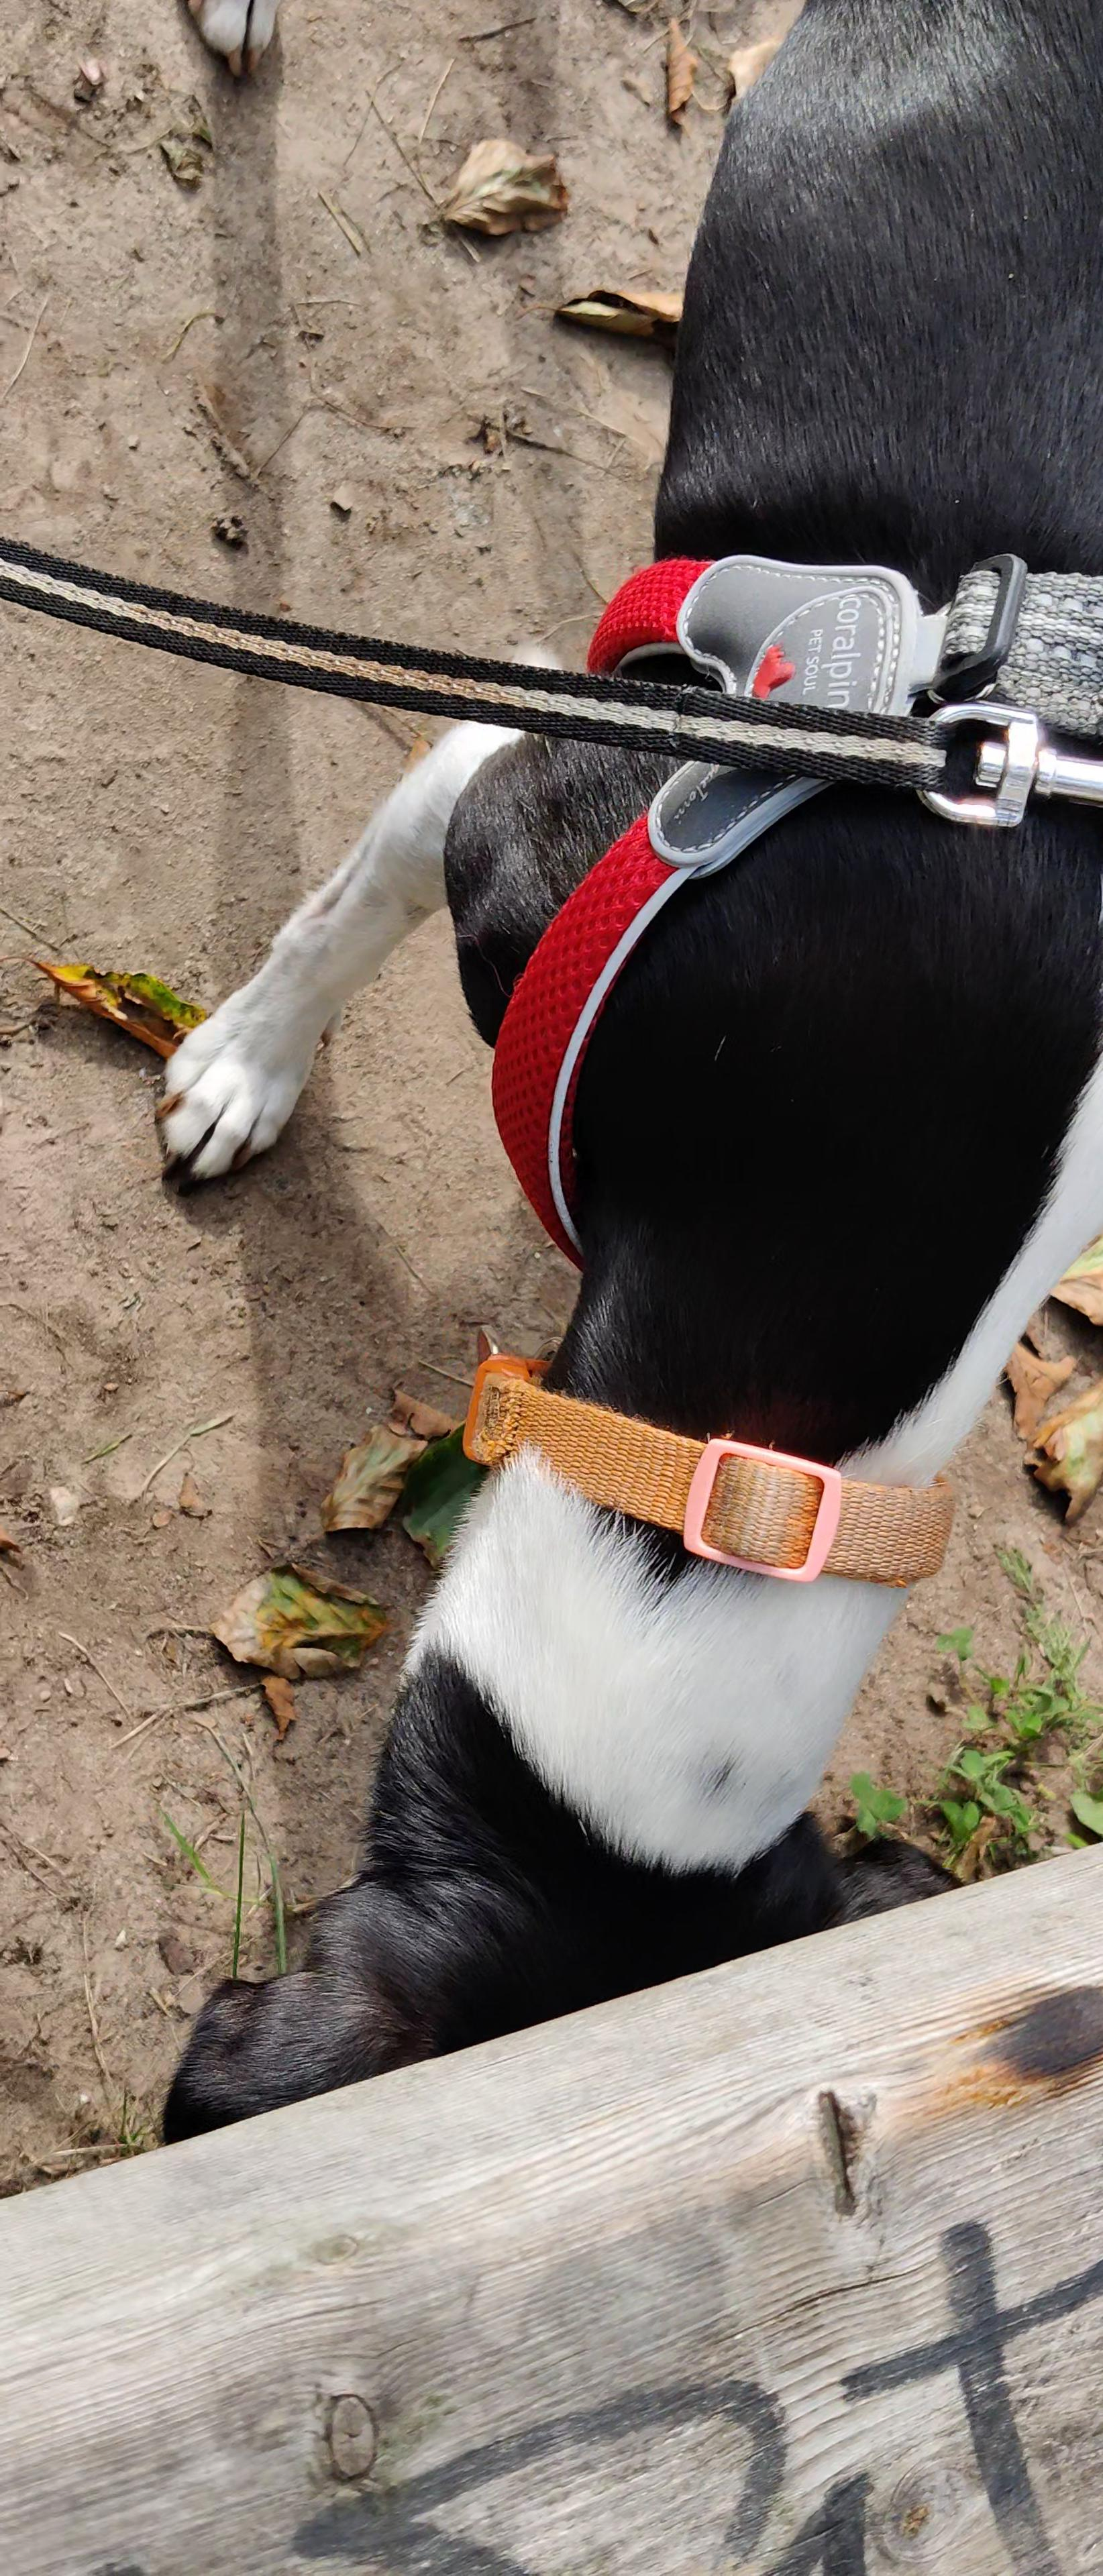Dog: (122, 0, 1103, 2238)
